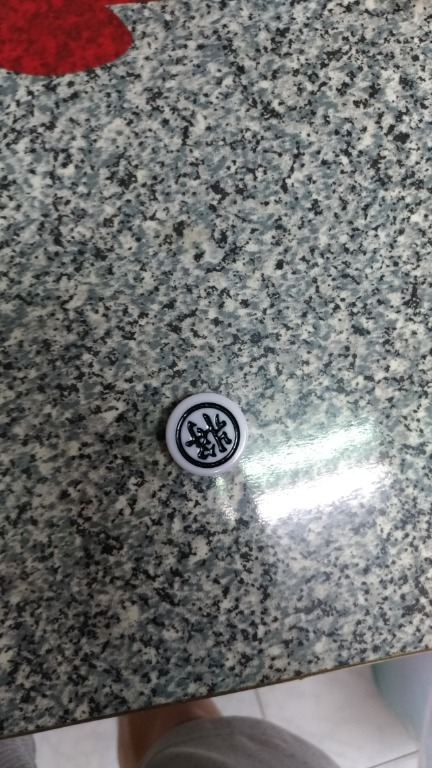b-king: (153, 386, 260, 486)
